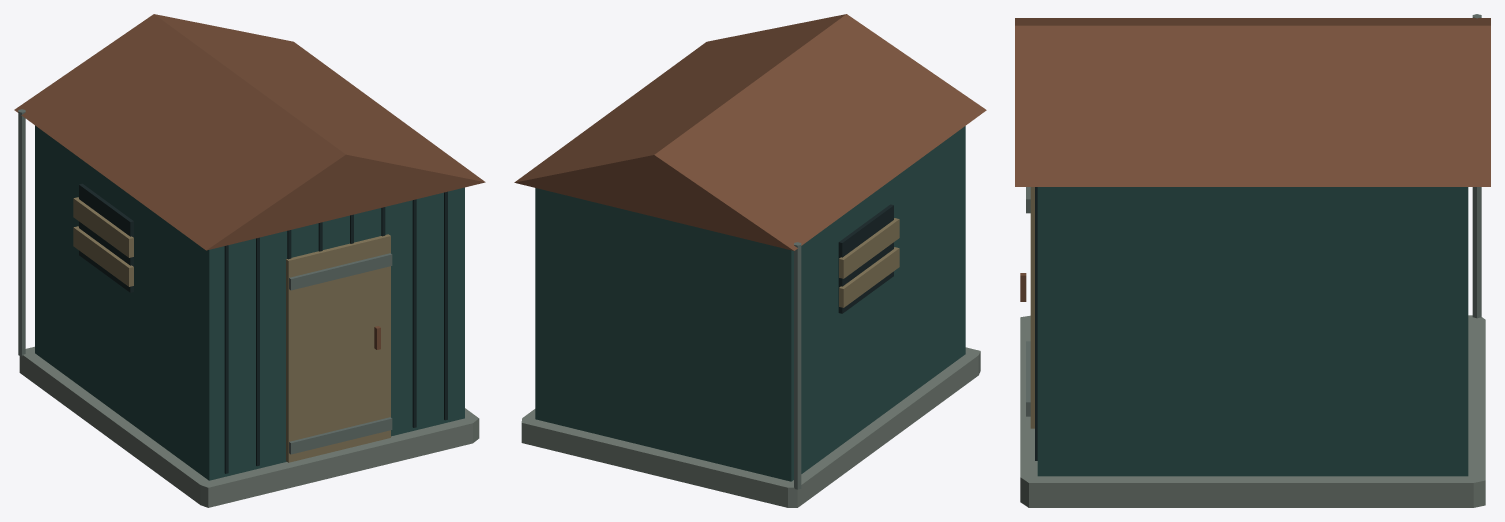
Rendered from lv119-maintenance-shed.glb.
3 renders of one model, left to right at view 1: azimuth 30°, elevation 25°; view 2: azimuth 150°, elevation 25°; view 3: azimuth 270°, elevation 25°, orthographic. The views are drawn at different scales.
Parts seen in each view (by area): view 1: maintenance-shed; view 2: maintenance-shed; view 3: maintenance-shed.
Boxes of the visible parts, bbox=[...] form: maintenance-shed: bbox=[14, 14, 485, 507]; maintenance-shed: bbox=[514, 14, 986, 507]; maintenance-shed: bbox=[1015, 14, 1490, 507].
Bounding box in the file's own units: 2.33 × 2.55 × 2.76.
